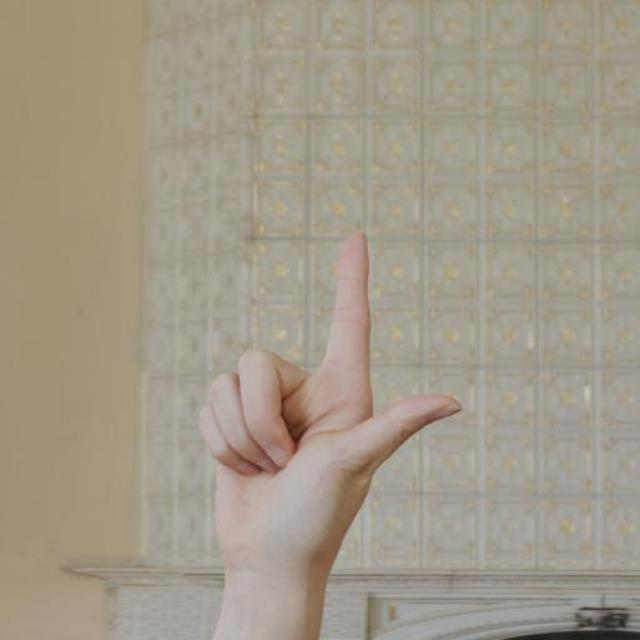L: (197, 230, 465, 572)
